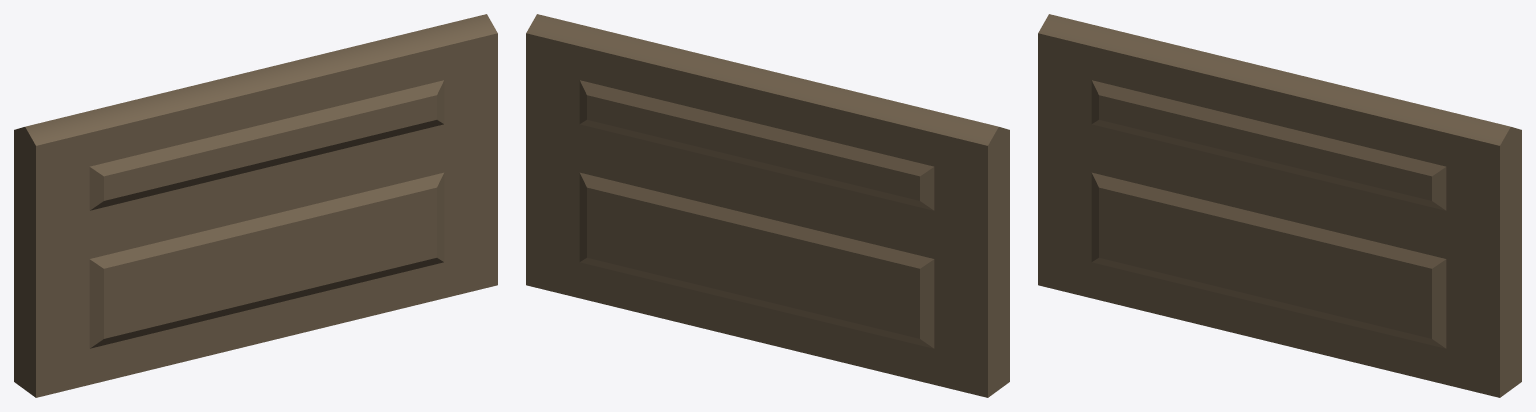
File: Itr_Bed_Double_Back_03.FBX
3 renders of one model, left to right at view 1: azimuth 30°, elevation 25°; view 2: azimuth 150°, elevation 25°; view 3: azimuth 330°, elevation 25°, orthographic.
Visible parts, largest first — view 1: Itr_Bed_Double_Back_03; view 2: Itr_Bed_Double_Back_03; view 3: Itr_Bed_Double_Back_03.
Boxes of the visible parts, x1,y1,x2,y2 form: Itr_Bed_Double_Back_03: (14, 14, 497, 397); Itr_Bed_Double_Back_03: (526, 14, 1009, 397); Itr_Bed_Double_Back_03: (1038, 14, 1521, 397).
Bounding box in the file's own units: 68.66 × 37.4 × 7.45.
